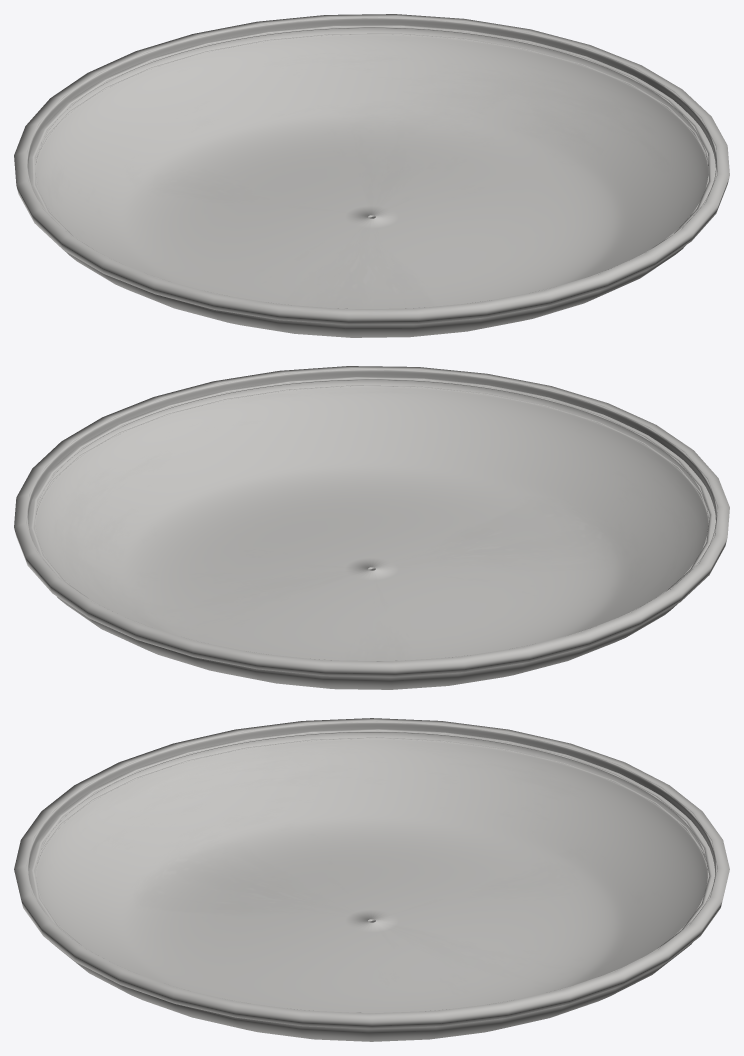
3 views of the same model, one above another, from view 1: azimuth 30°, elevation 25°; view 2: azimuth 150°, elevation 25°; view 3: azimuth 270°, elevation 25° (orthographic).
Visible parts, largest first — view 1: BowlJ1; view 2: BowlJ1; view 3: BowlJ1.
Part boxes in pixels (<box>): BowlJ1: <box>14,14,729,337</box>; BowlJ1: <box>14,366,729,689</box>; BowlJ1: <box>14,718,729,1041</box>.
Bounding box in the file's own units: 5.31 × 0.5839 × 5.31.
